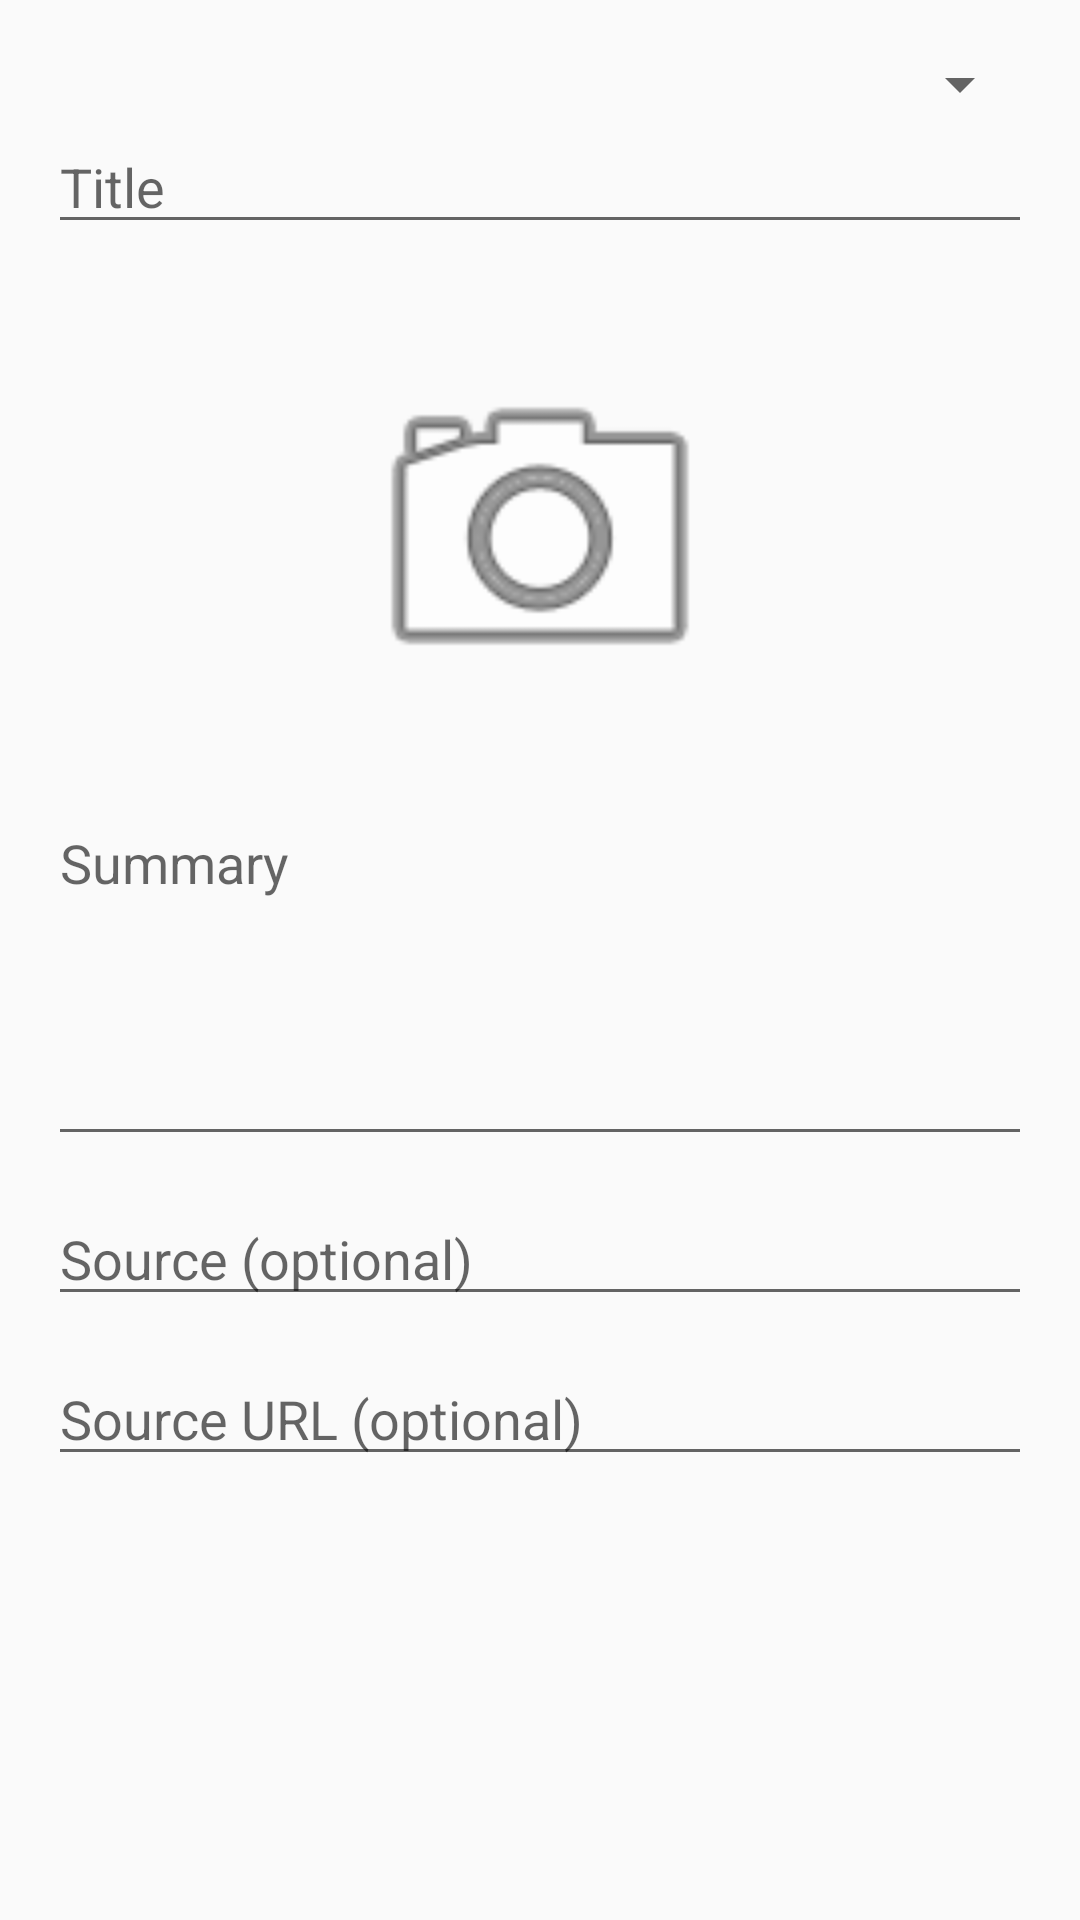

Icon click points for this 1080 x 1920 phone screenshot, format (x=x, y=y):
camera: (x=540, y=526)
